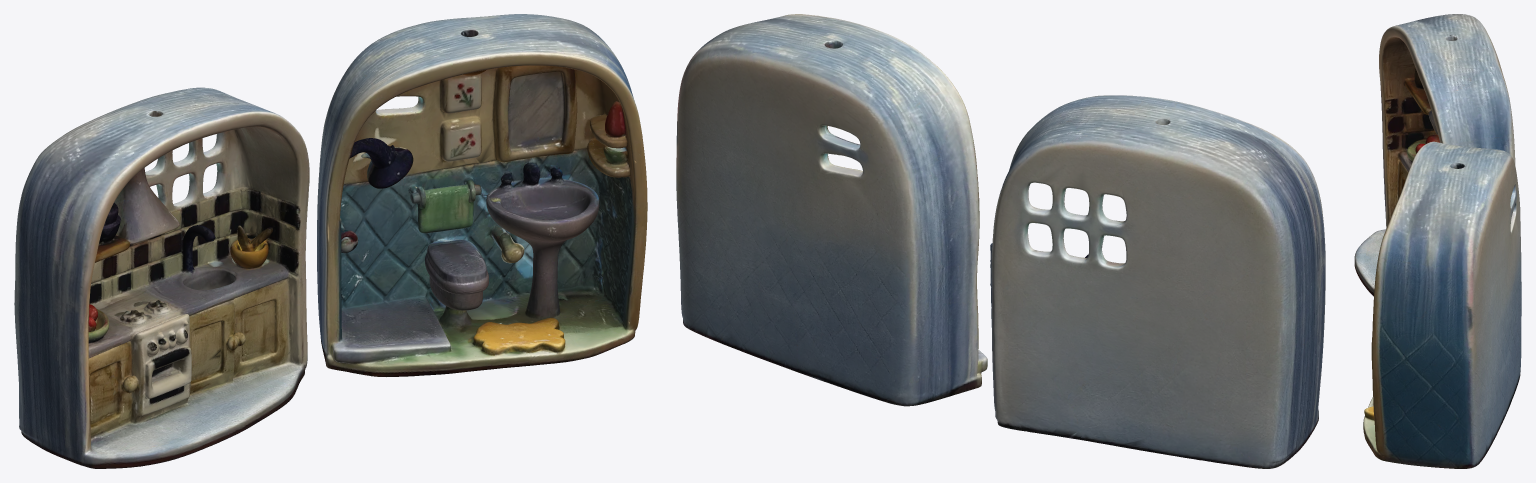
The model's file is Meshy_AI_Dollhouse_Kitchen_and_0521160414_texture.glb.
The picture shows the model from 3 angles, left to right: view 1: azimuth 30°, elevation 25°; view 2: azimuth 150°, elevation 25°; view 3: azimuth 270°, elevation 25°; orthographic projection. The views are drawn at different scales.
Bounding box in the file's own units: 1.9 × 0.9086 × 0.5565.
Materials: 1 (1 with a texture image).
